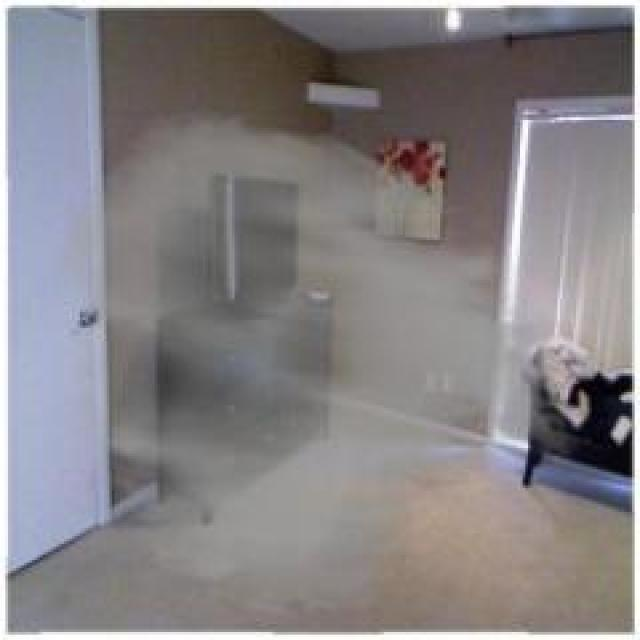fire: (51, 105, 584, 620)
